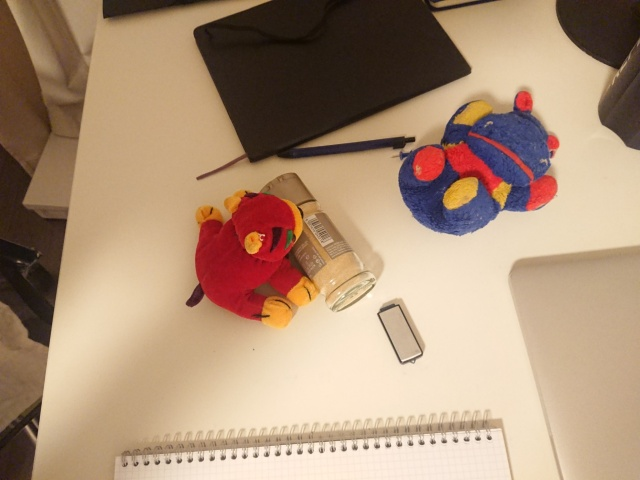Kotanyi Garlic Granules 70g: (256, 171, 378, 315)
